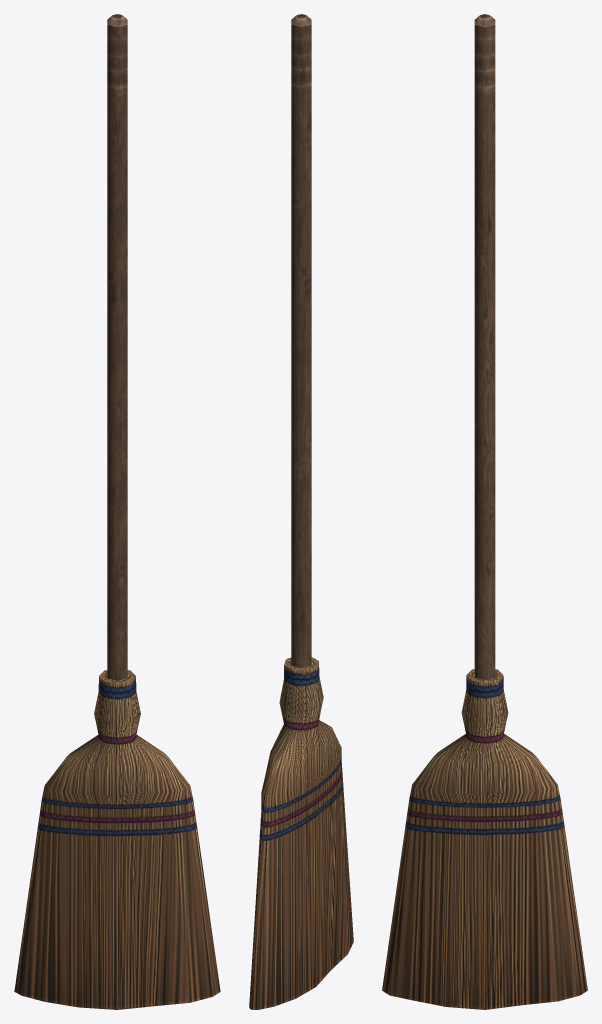
The model's file is LOD1_broom.fbx.
The picture shows the model from 3 angles, left to right: view 1: azimuth 90°, elevation 25°; view 2: azimuth 150°, elevation 25°; view 3: azimuth 270°, elevation 25°; orthographic projection.
Parts seen in each view (by area): view 1: LOD1_broom; view 2: LOD1_broom; view 3: LOD1_broom.
Boxes of the visible parts, bbox=[...] form: LOD1_broom: bbox=[14, 14, 220, 1009]; LOD1_broom: bbox=[249, 14, 353, 1009]; LOD1_broom: bbox=[382, 14, 587, 1009].
Bounding box in the file's own units: 0.0698 × 1.62 × 0.307.
